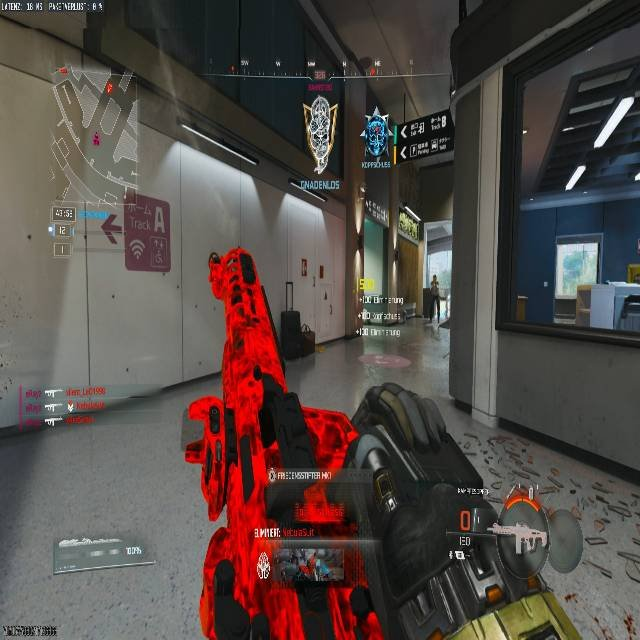head: (431, 274, 438, 282)
player: (361, 105, 388, 164)
